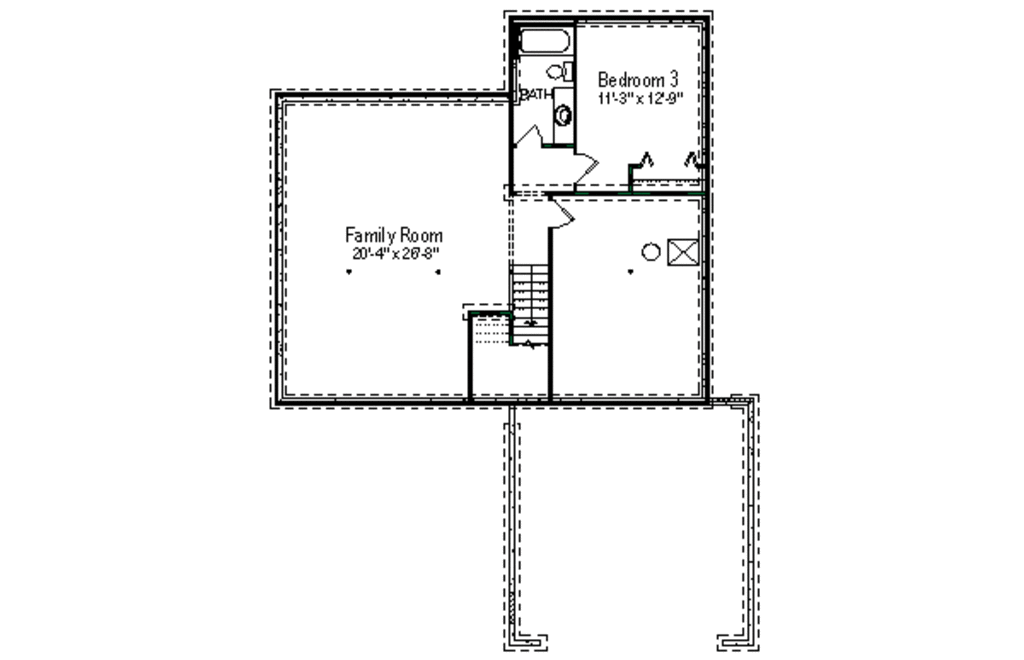door: (567, 149, 602, 186), (508, 121, 548, 152), (546, 197, 578, 229)
large_sink: (546, 60, 574, 85)
small_sink: (553, 88, 579, 147)
stairs: (505, 262, 555, 345)
tub: (521, 30, 575, 58)
